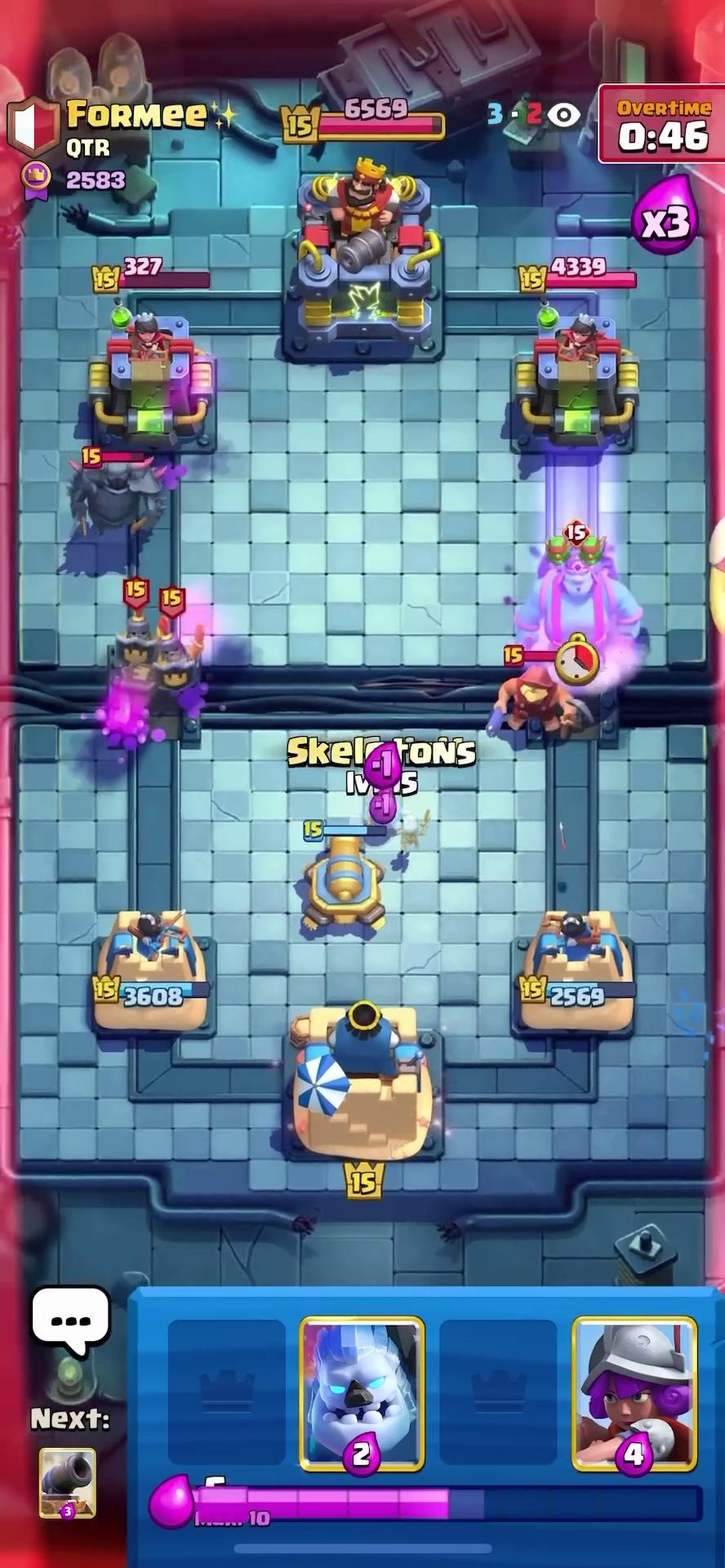cannon: (290, 823, 406, 931)
